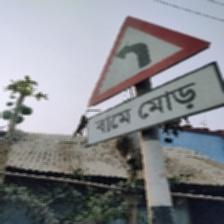Left-Turn: (82, 16, 220, 146)
